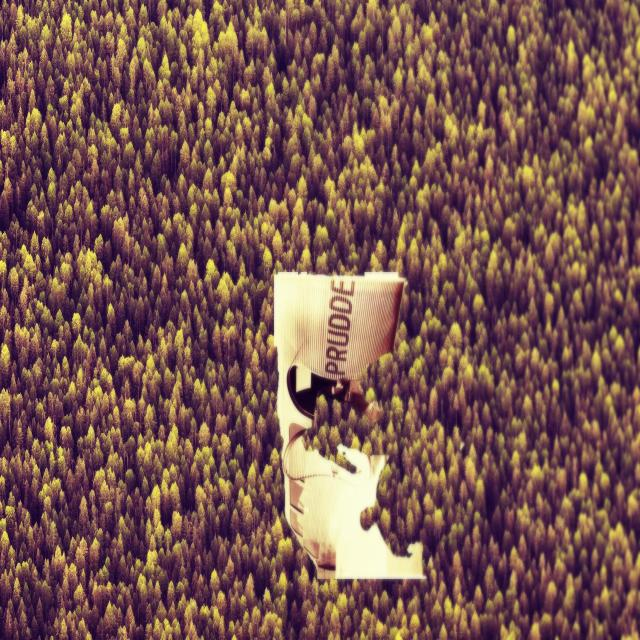airplane: (273, 270, 426, 581)
